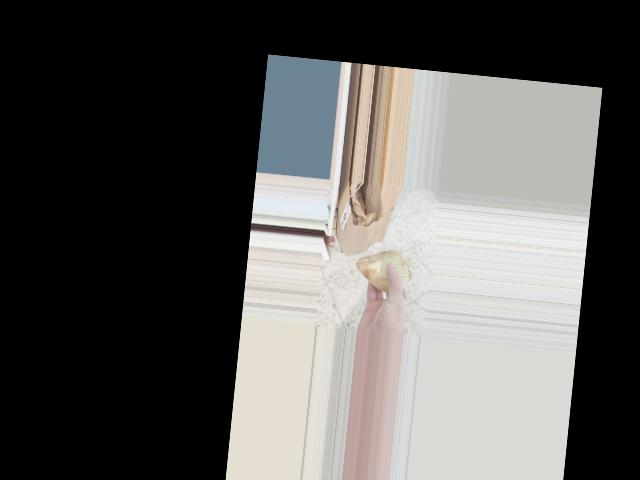onion: (351, 239, 414, 299)
